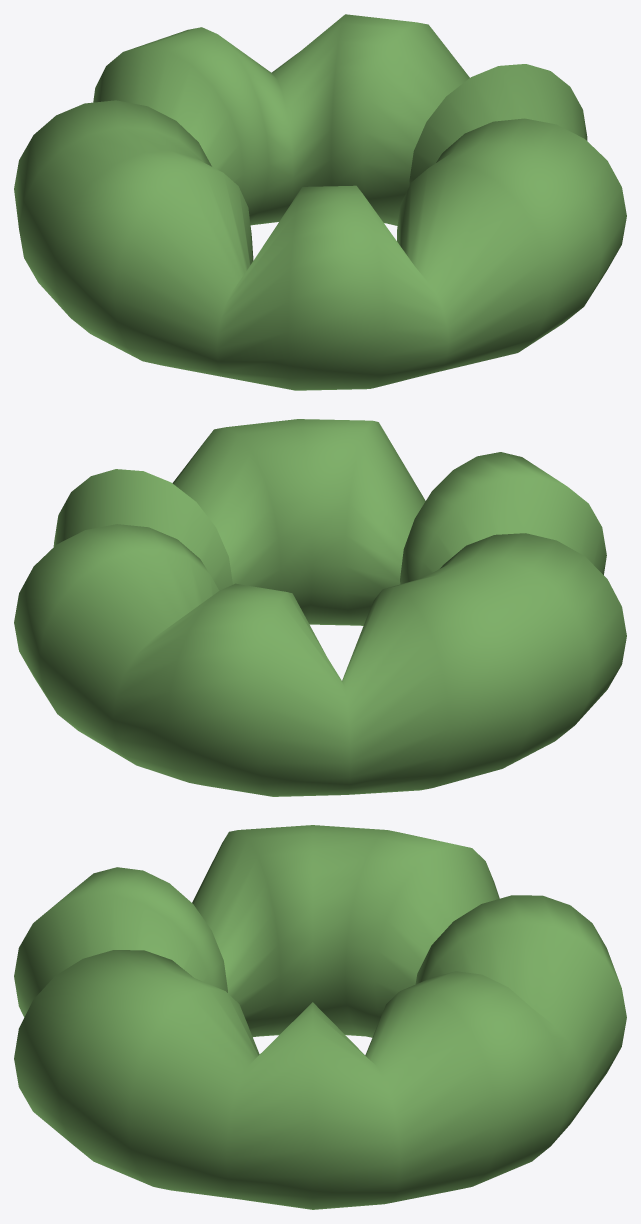
The model's file is wormBadring.fbx.
3 renders of one model, top to bottom at view 1: azimuth 30°, elevation 25°; view 2: azimuth 150°, elevation 25°; view 3: azimuth 270°, elevation 25°, orthographic.
Visible parts, largest first — view 1: badring; view 2: badring; view 3: badring.
Part boxes in pixels (x1,y1,x2,y2): badring: [14, 14, 626, 390]; badring: [14, 419, 626, 796]; badring: [14, 825, 626, 1209].
Size of the model in its own units: 73.52 by 25.12 by 71.72.
